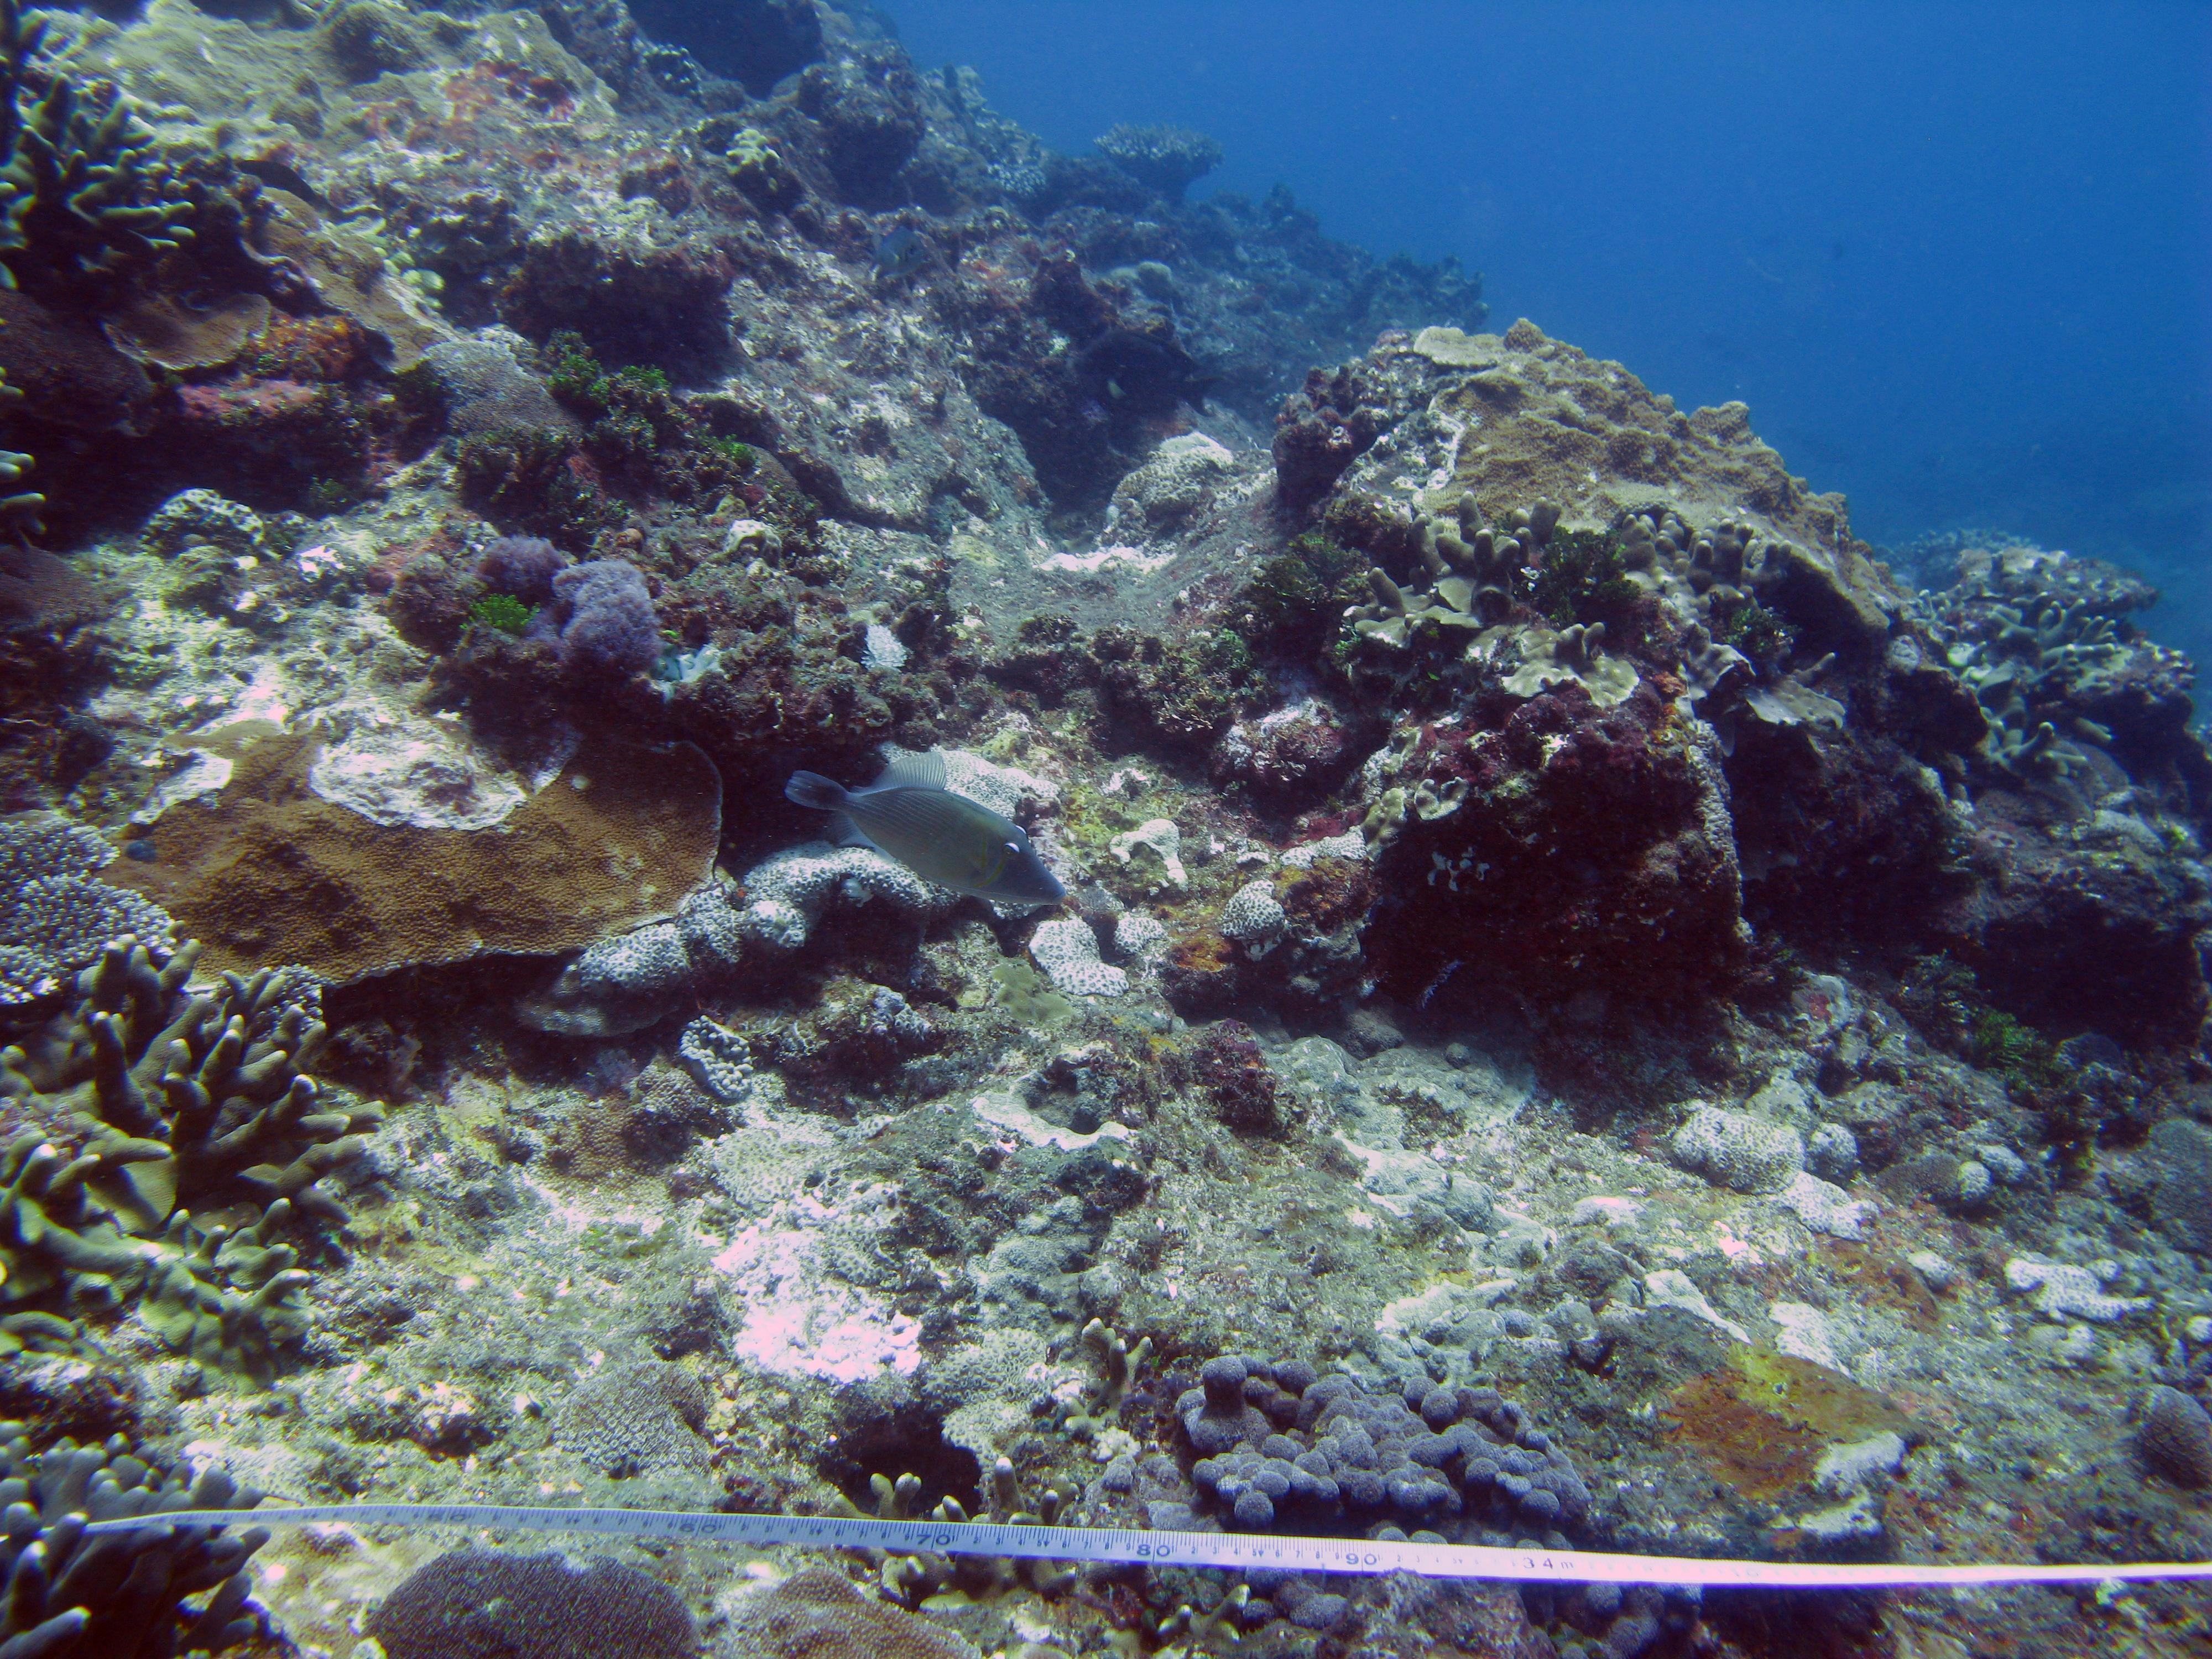Fish: (758, 725, 1113, 957)
